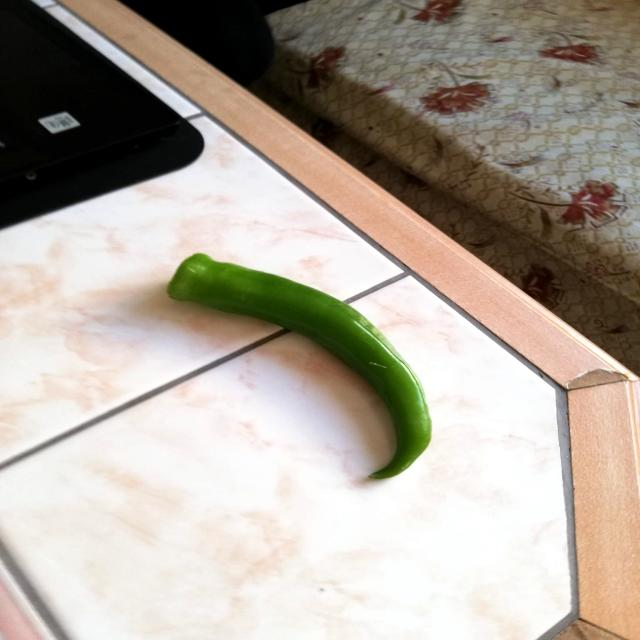green pepper: (164, 252, 436, 482)
